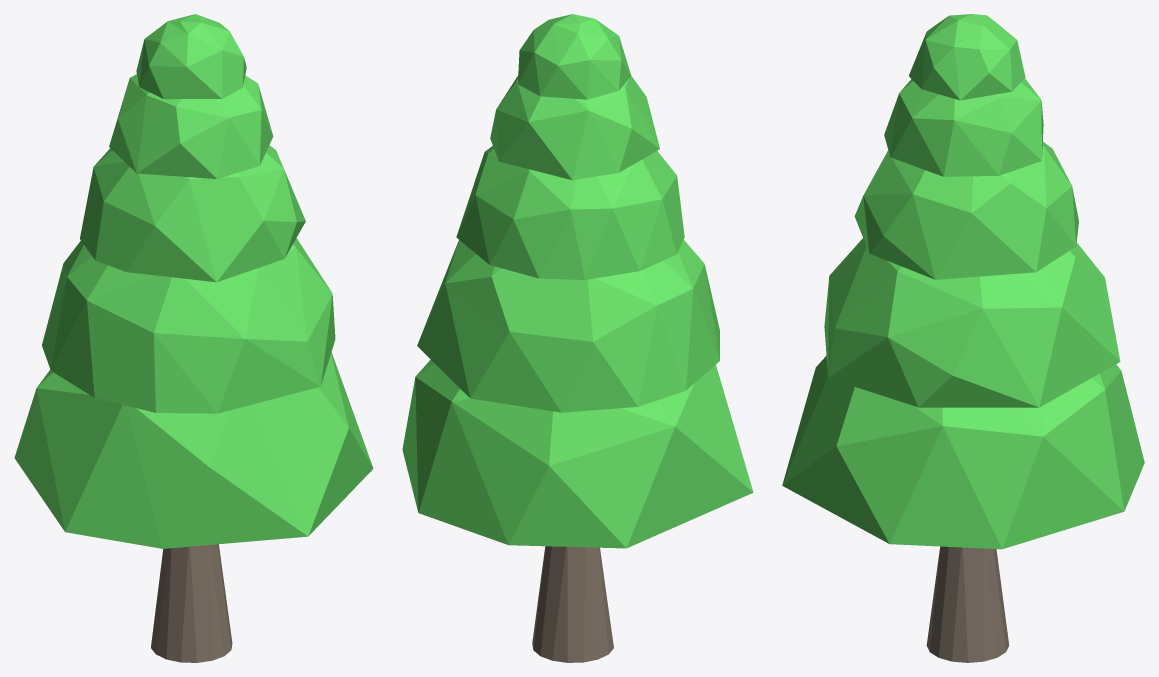
File: tree2.gltf
3 renders of one model, left to right at view 1: azimuth 30°, elevation 25°; view 2: azimuth 150°, elevation 25°; view 3: azimuth 270°, elevation 25°, orthographic.
Visible parts, largest first — view 1: Sphere.005_wood_0; view 2: Sphere.005_wood_0; view 3: Sphere.005_wood_0.
Boxes of the visible parts, x1=… form: Sphere.005_wood_0: x1=14, y1=14, x2=373, y2=662; Sphere.005_wood_0: x1=402, y1=14, x2=753, y2=662; Sphere.005_wood_0: x1=782, y1=14, x2=1144, y2=662.
Size of the model in its own units: 0.9482 by 1.85 by 0.9683.
